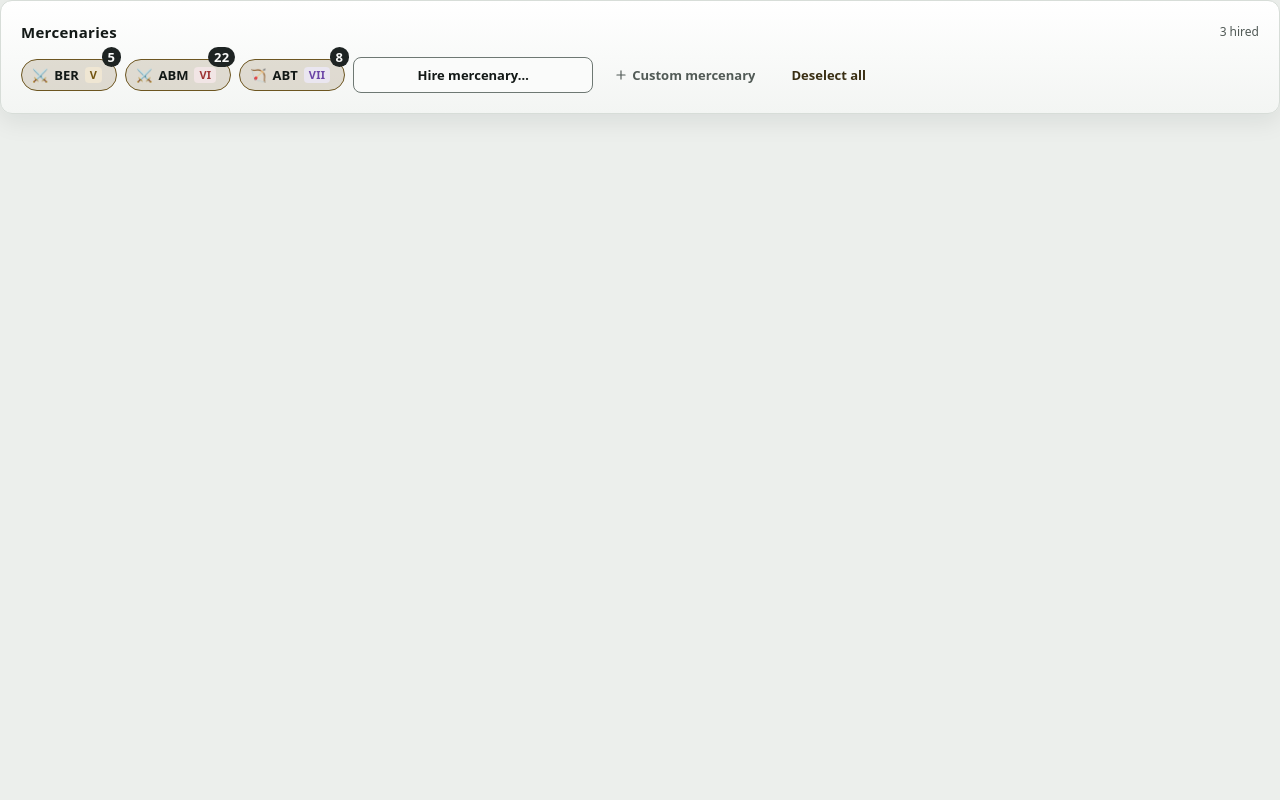
Test case: in an open editor Tab commits and opens the next one, Shift+Tab the previous
The width and height of the screenshot is (1280, 800).
Click the button named "Bear V: owned 5".
click(111, 57)  # box 102,47 -> 121,67
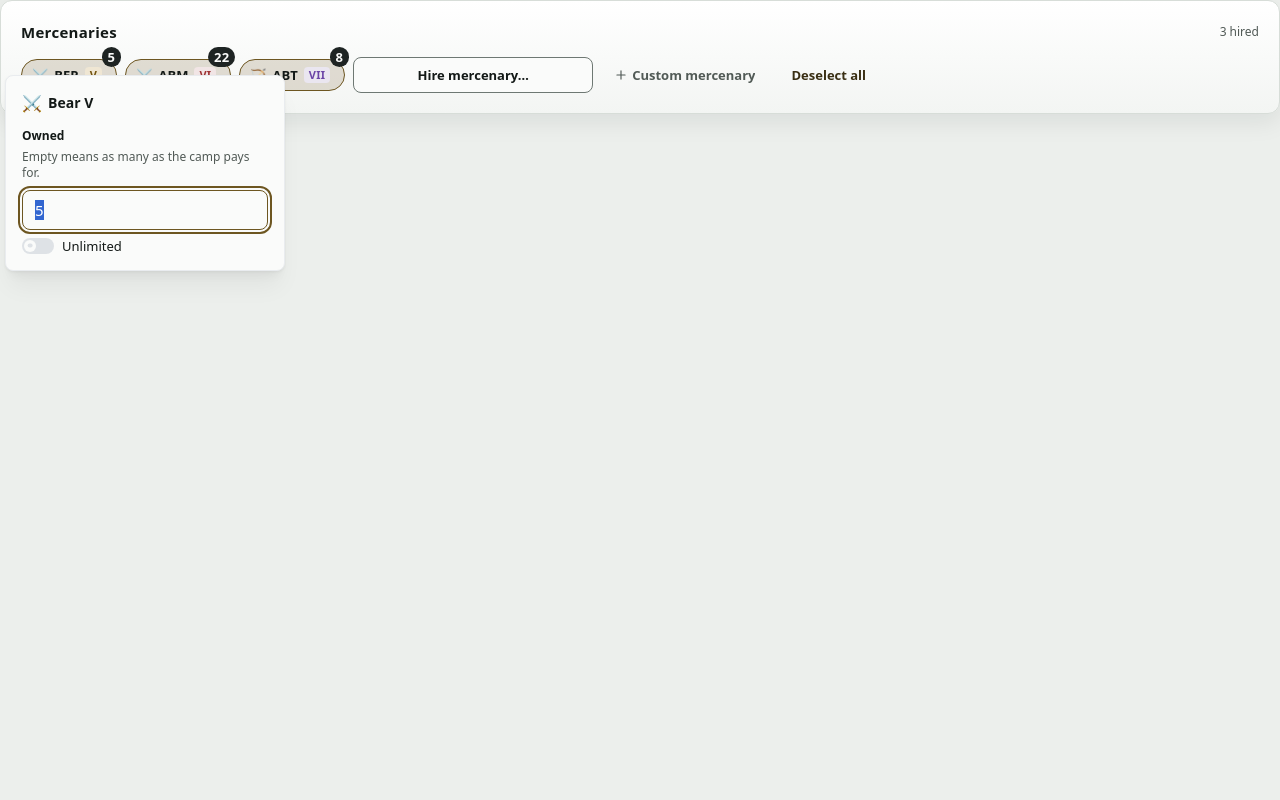
Replace the text in the field labelled "Owned" with "9" at (145, 210), box 22,190 -> 268,230
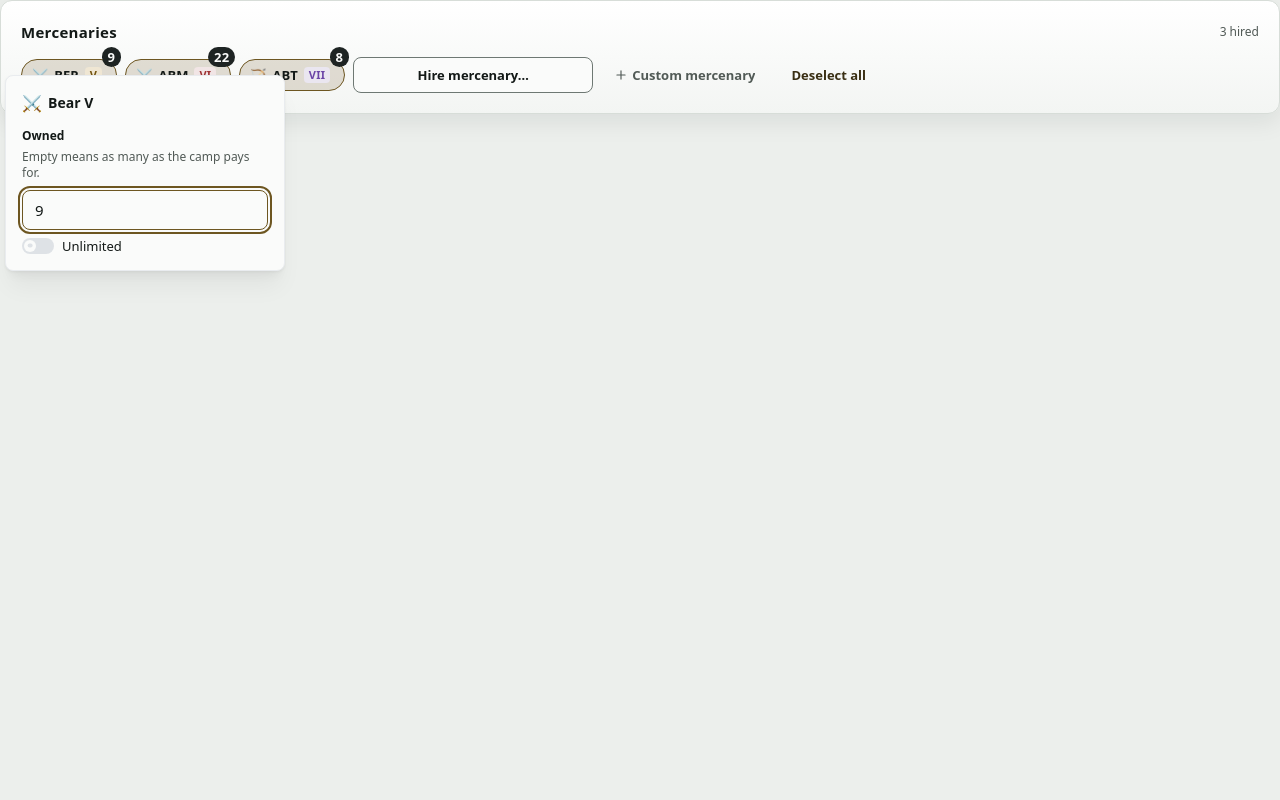
Press Tab
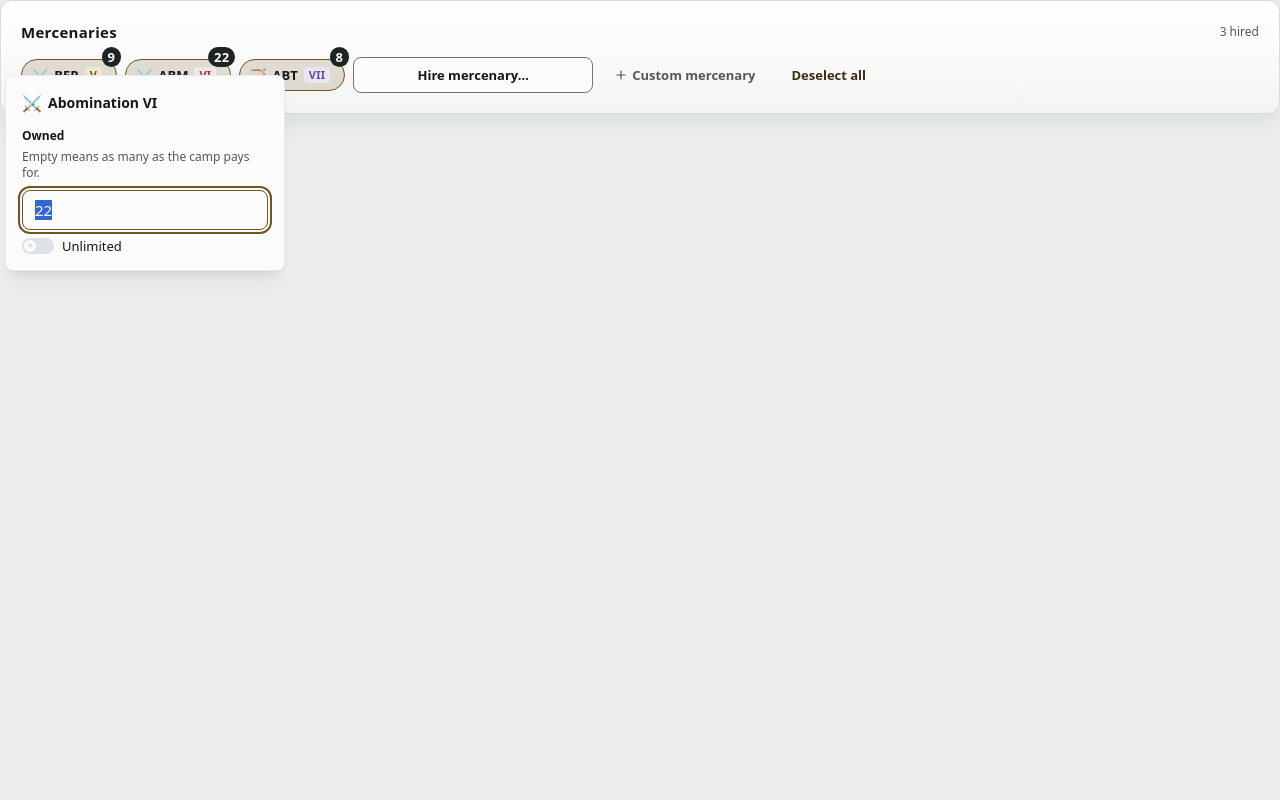
Expected: the text "Abomination VI" is shown, 48,92 -> 157,114
Expected: the number of dialogs is 1, 5,75 -> 285,271
Press Shift+Tab
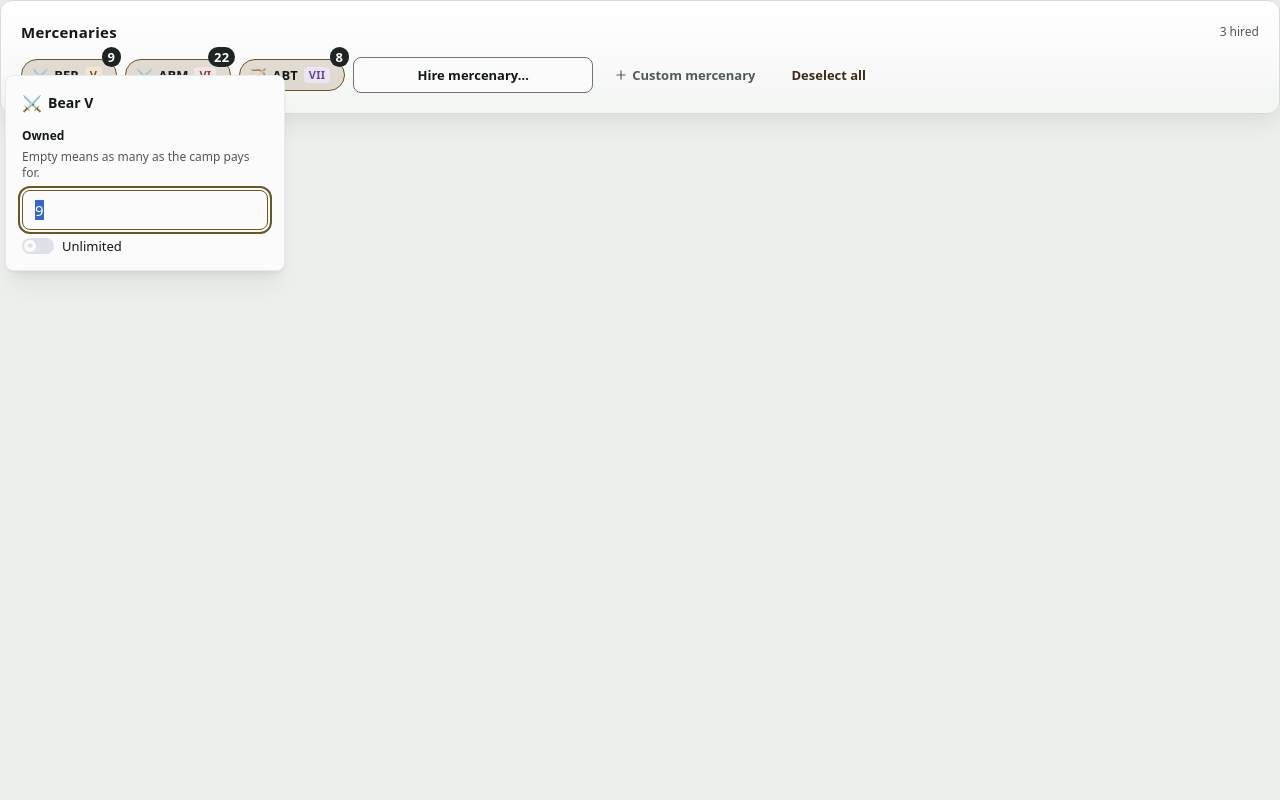
Expected: the text "Bear V" is shown, 48,92 -> 93,114
